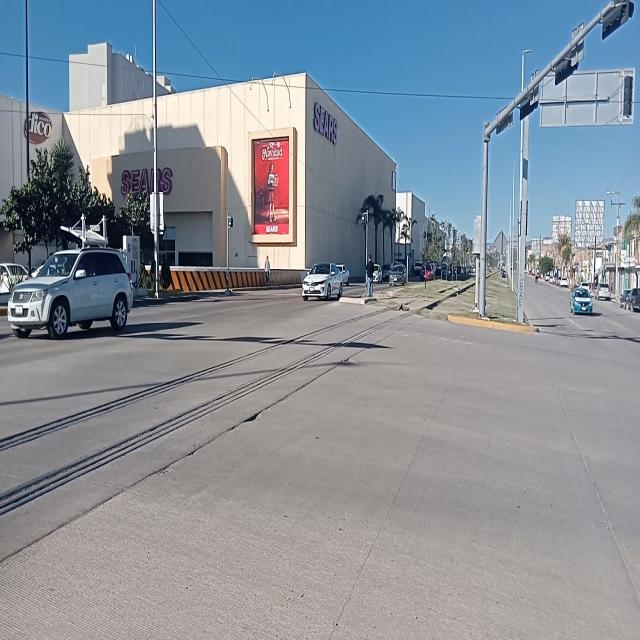Auto: (6, 245, 136, 344), (298, 251, 347, 304)
